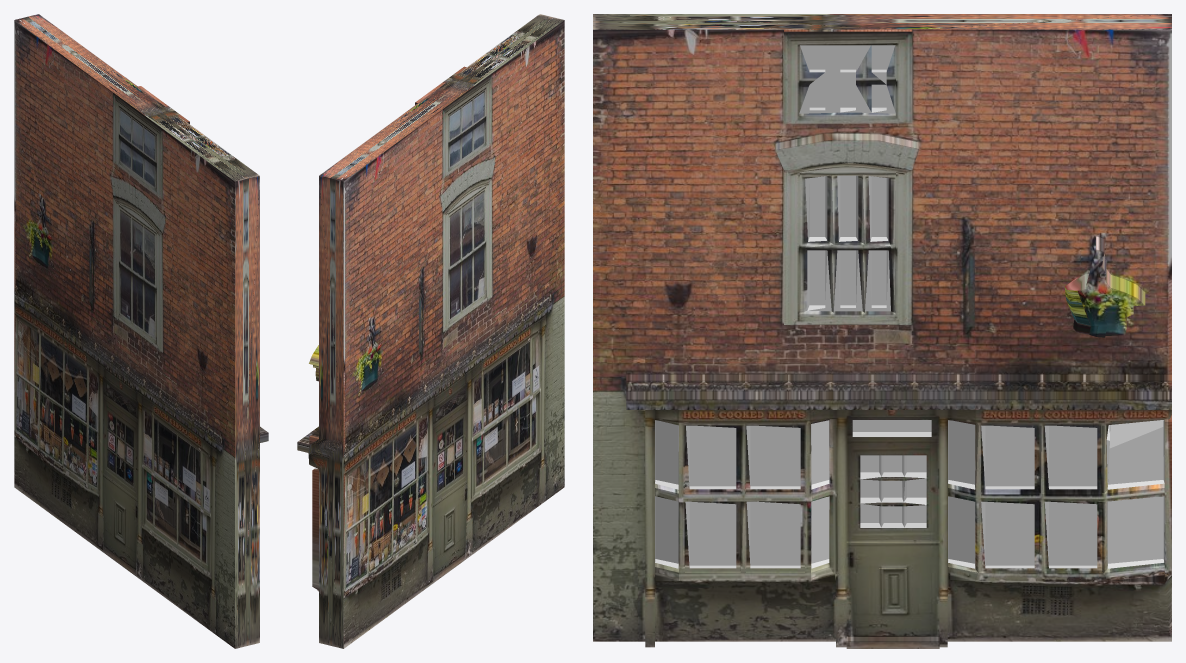
The model's file is builfdin.fbx.
3 renders of one model, left to right at view 1: azimuth 30°, elevation 25°; view 2: azimuth 150°, elevation 25°; view 3: azimuth 270°, elevation 25°, orthographic. The views are drawn at different scales.
Visible parts, largest first — view 1: Cube; view 2: Cube; view 3: Cube.
Boxes of the visible parts, x1,y1,x2,y2 form: Cube: (14, 14, 268, 648); Cube: (297, 14, 564, 648); Cube: (593, 14, 1171, 648).
Bounding box in the file's own units: 29.67 × 279 × 239.
Materials: 2 (1 with a texture image).
